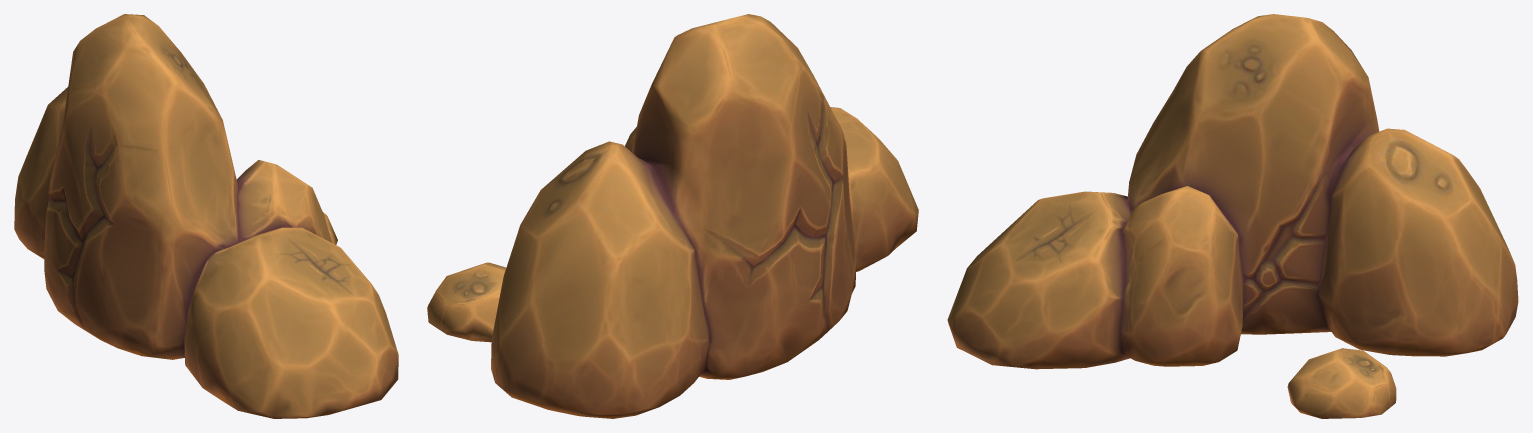
3 renders of one model, left to right at view 1: azimuth 30°, elevation 25°; view 2: azimuth 150°, elevation 25°; view 3: azimuth 270°, elevation 25°, orthographic. The views are drawn at different scales.
Parts seen in each view (by area): view 1: TCE_Rocks_v04_LP:Group11816; view 2: TCE_Rocks_v04_LP:Group11816; view 3: TCE_Rocks_v04_LP:Group11816.
Boxes of the visible parts, x1,y1,x2,y2 form: TCE_Rocks_v04_LP:Group11816: [14, 14, 398, 418]; TCE_Rocks_v04_LP:Group11816: [427, 14, 918, 418]; TCE_Rocks_v04_LP:Group11816: [947, 14, 1518, 418].
Bounding box in the file's own units: 1.25 × 1.14 × 2.
1 material, 1 textured.
